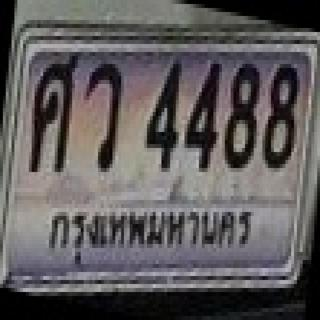A37: (84, 61, 128, 177)
A38: (27, 52, 81, 174)
N04: (182, 58, 224, 179), (146, 59, 182, 176)
N08: (218, 59, 264, 173), (262, 59, 297, 173)
P04: (48, 202, 259, 265)
